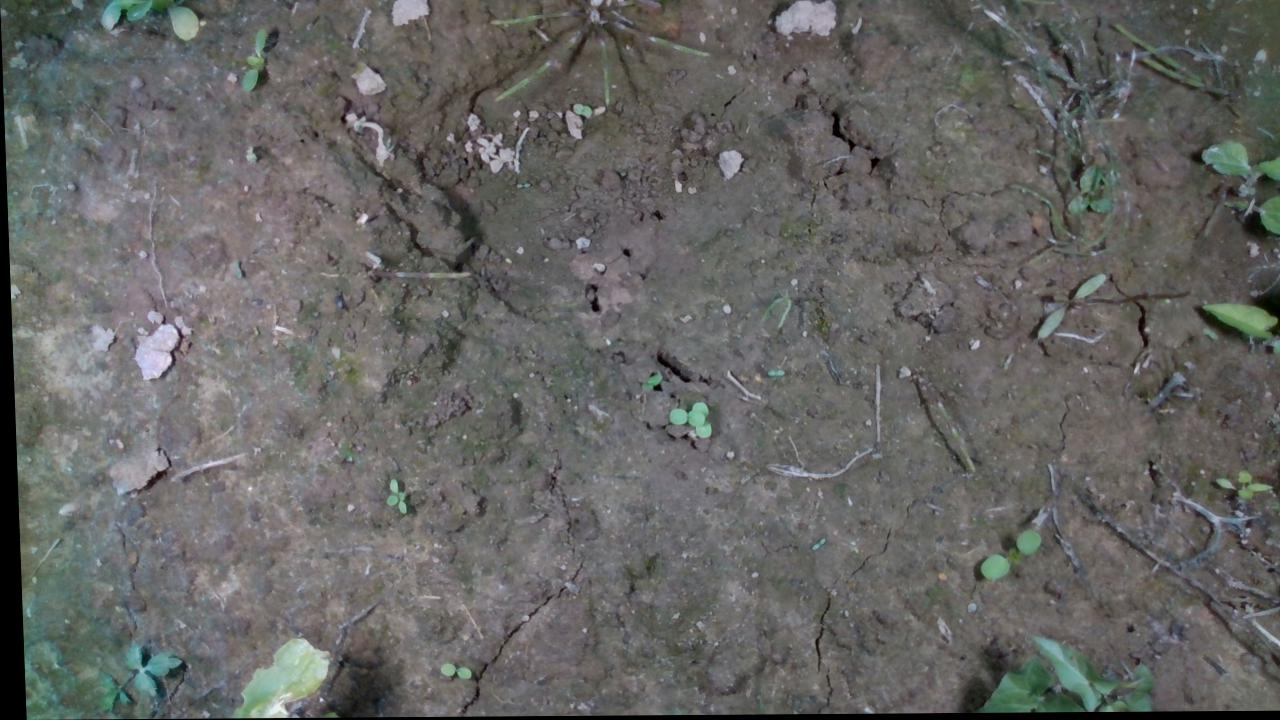weed: (971, 528, 1041, 582), (235, 27, 270, 95), (373, 475, 430, 511), (1209, 469, 1269, 502), (434, 663, 465, 682)
